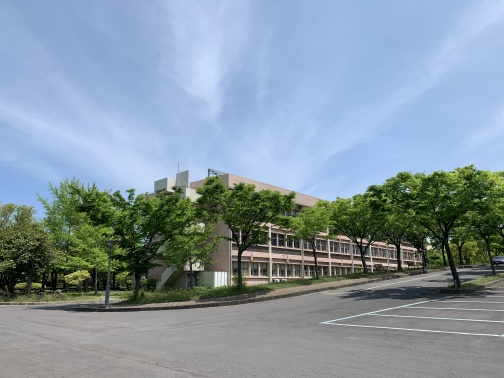College Of Education: (149, 169, 435, 303)
